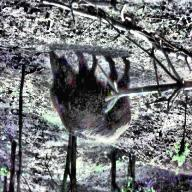boar: (38, 45, 147, 153)
